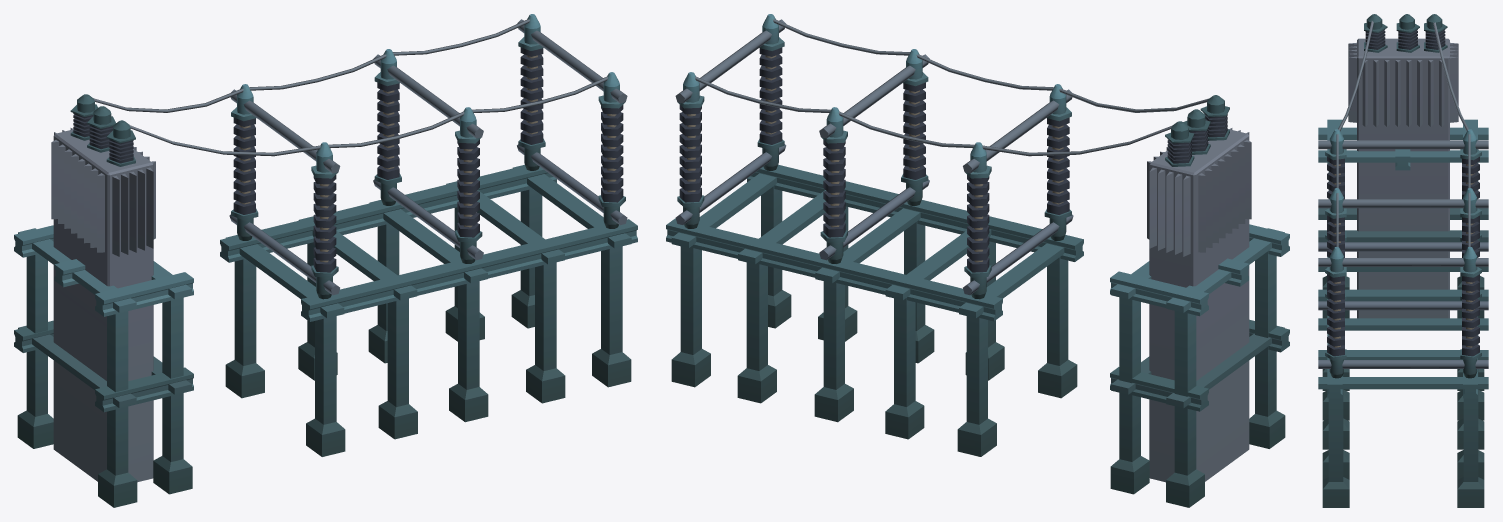
Rendered from PowerStation_C.fbx.
3 views of the same model, side by side, from view 1: azimuth 30°, elevation 25°; view 2: azimuth 150°, elevation 25°; view 3: azimuth 270°, elevation 25° (orthographic). The views are drawn at different scales.
Visible parts, largest first — view 1: PowerStation_C; view 2: PowerStation_C; view 3: PowerStation_C.
Part boxes in pixels (box(x1,y1,x2,y2)): PowerStation_C: box(14, 14, 637, 507); PowerStation_C: box(666, 14, 1289, 507); PowerStation_C: box(1318, 14, 1488, 507).
Bounding box in the file's own units: 659 × 418 × 217.
